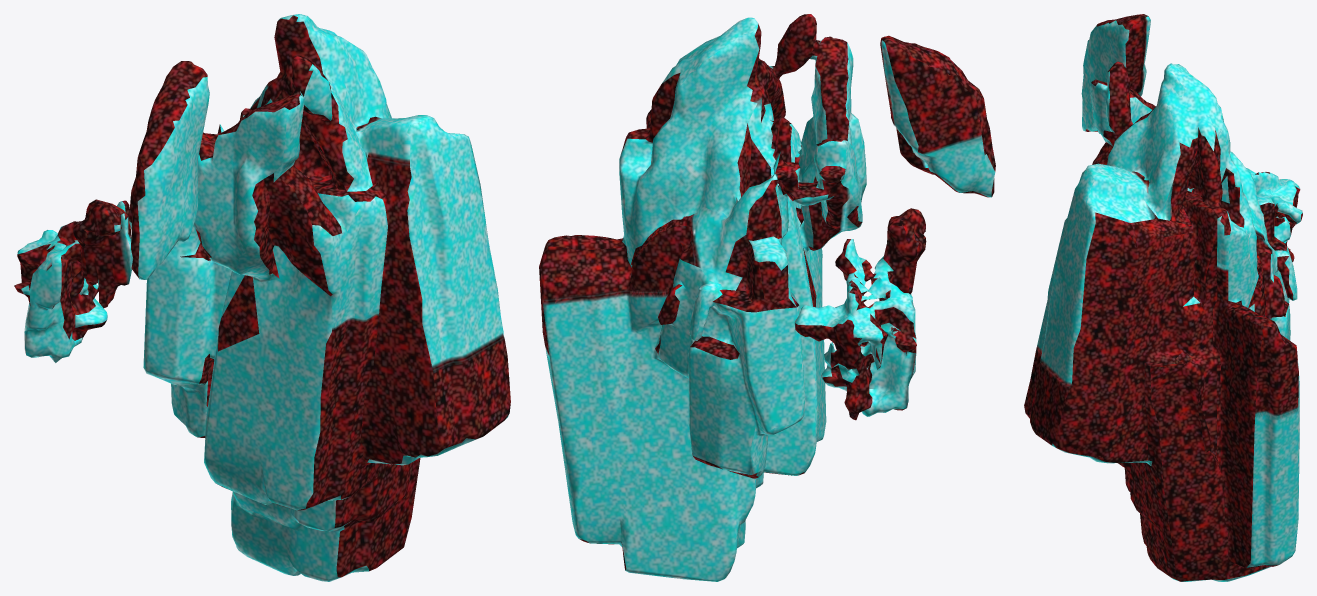
The picture shows the model from 3 angles, left to right: view 1: azimuth 30°, elevation 25°; view 2: azimuth 150°, elevation 25°; view 3: azimuth 270°, elevation 25°; orthographic projection. The views are drawn at different scales.
Parts seen in each view (by area): view 1: SM_L_World_MainGrid_L0_X9_Y2_0_ShadowProxy_LOD0; view 2: SM_L_World_MainGrid_L0_X9_Y2_0_ShadowProxy_LOD0; view 3: SM_L_World_MainGrid_L0_X9_Y2_0_ShadowProxy_LOD0.
Boxes of the visible parts, x1,y1,x2,y2 form: SM_L_World_MainGrid_L0_X9_Y2_0_ShadowProxy_LOD0: (14,14,510,581); SM_L_World_MainGrid_L0_X9_Y2_0_ShadowProxy_LOD0: (539,14,995,581); SM_L_World_MainGrid_L0_X9_Y2_0_ShadowProxy_LOD0: (1024,14,1302,581).
Bounding box in the file's own units: 373 × 521 × 273.
Materials: 1 (1 with a texture image).
